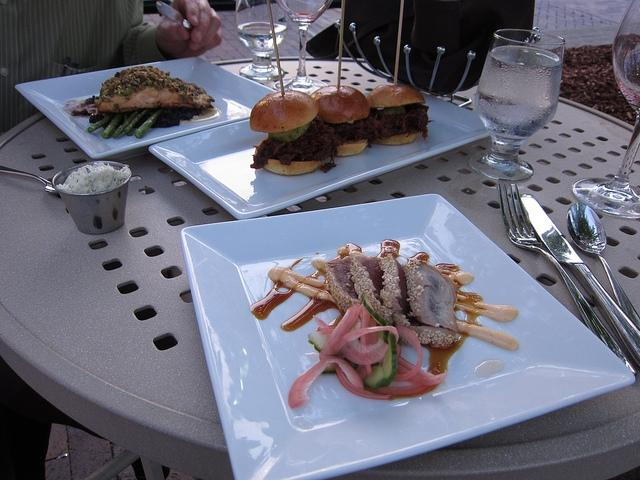asparagus: (112, 108, 144, 138), (134, 107, 164, 138), (101, 112, 125, 139), (125, 108, 148, 134), (88, 112, 116, 132)
